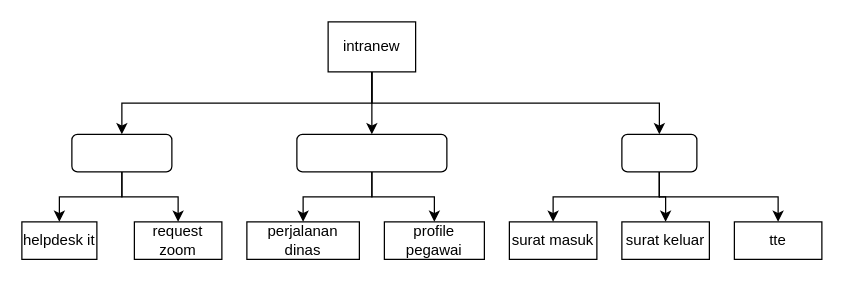
This 844x281 diagram has some shape labels left out. The centre of each missing label's shape, as x and y in pixels:
"arsip" belongs at (659,152).
"manajemen aset" belongs at (121,152).
"manajemen pegawai" belongs at (371,152).
